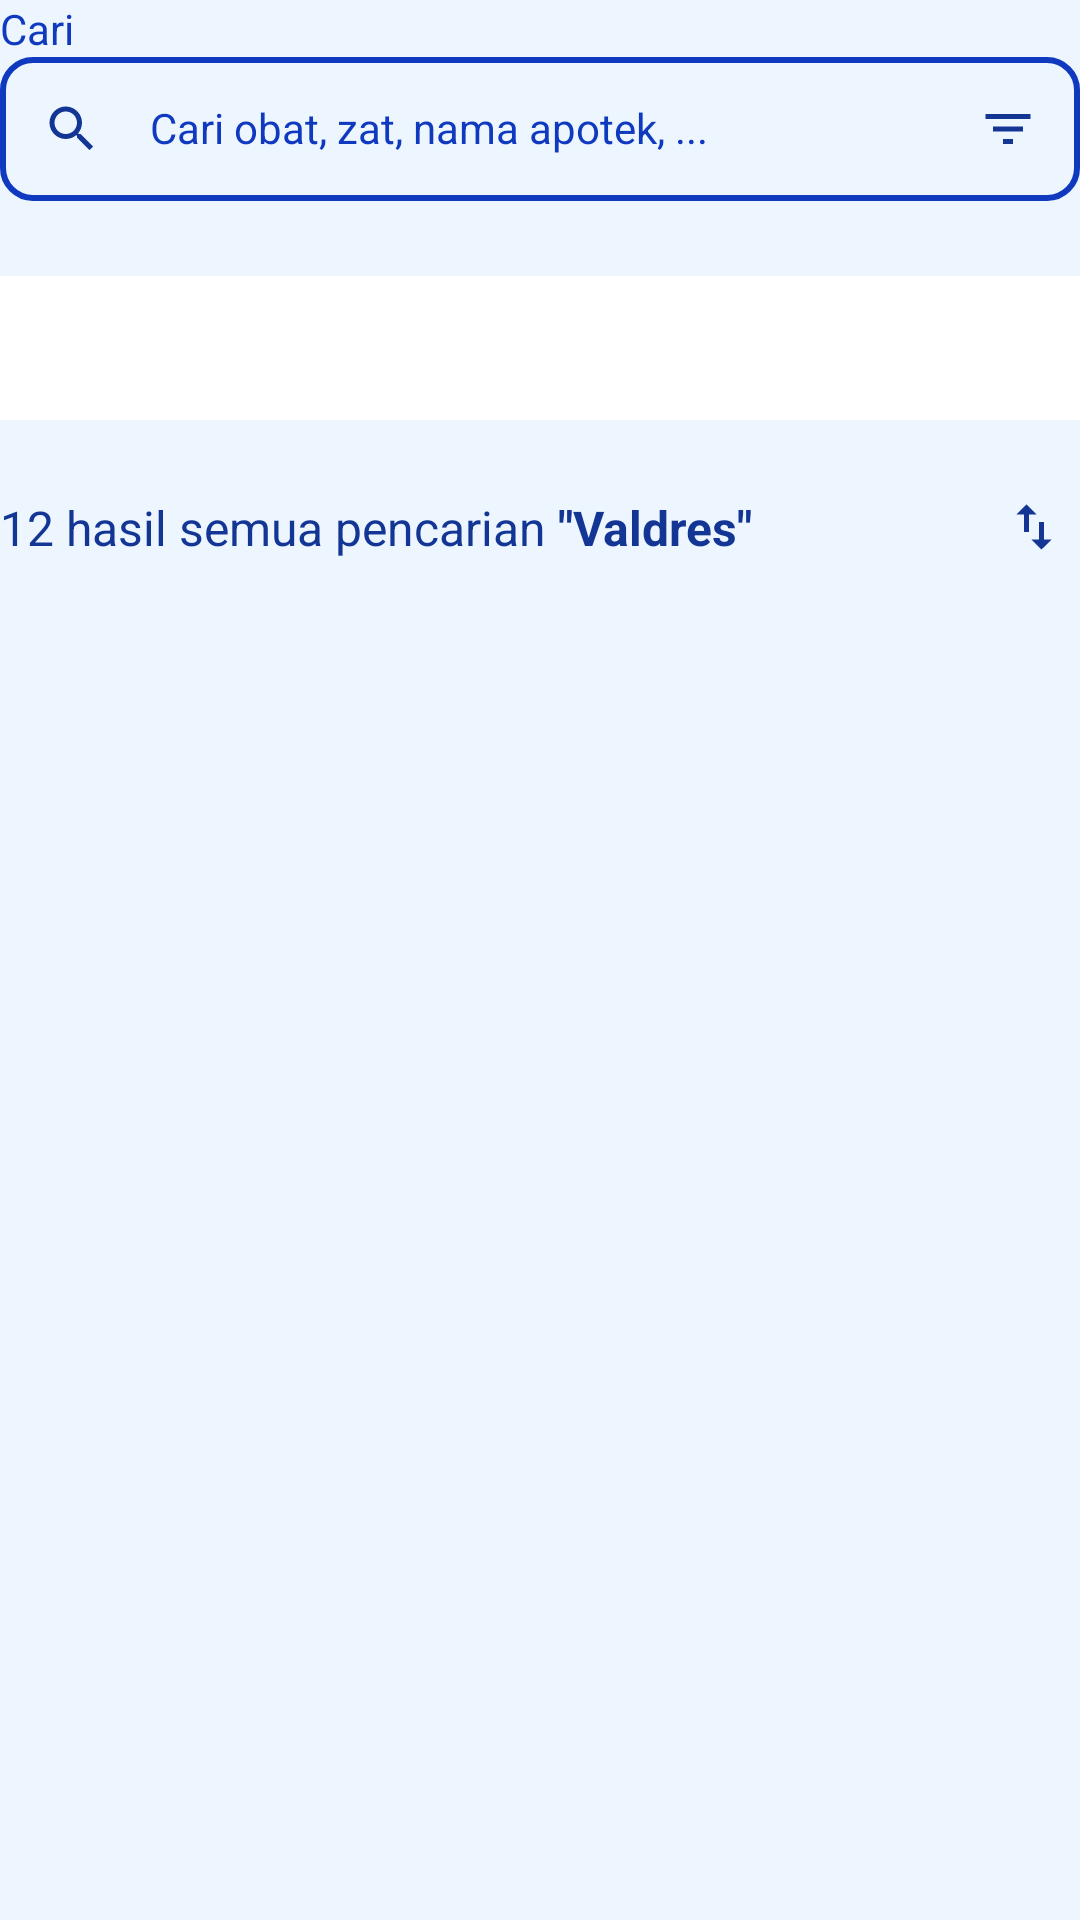

Screen size 1080 x 1920. Icon name, then its center in pixels as [x,y]:
filter list: [1008,129]
search: [71,128]
swap vert: [1034,527]
